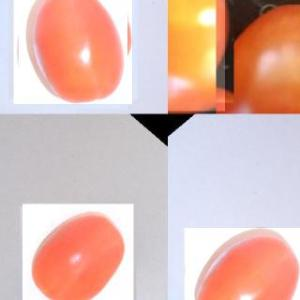tomato: (14, 0, 132, 104), (23, 204, 134, 300), (206, 2, 300, 114), (184, 227, 300, 299), (168, 0, 224, 110)
